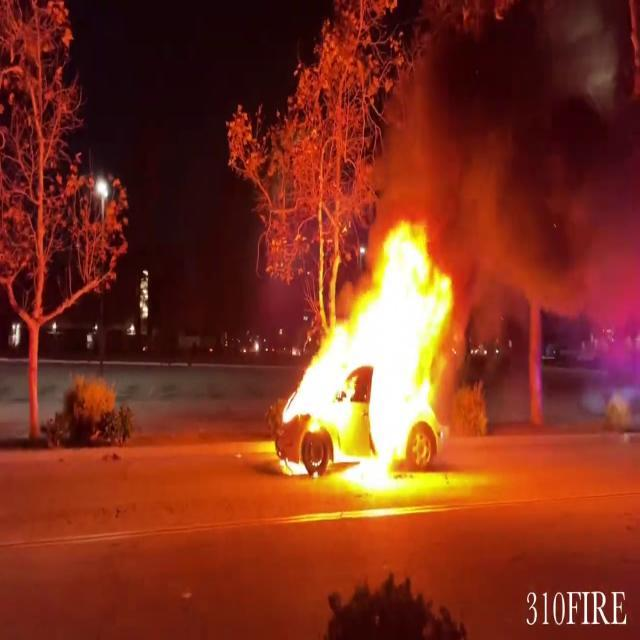Fire: (269, 212, 461, 499)
Smoke: (446, 0, 639, 316)
